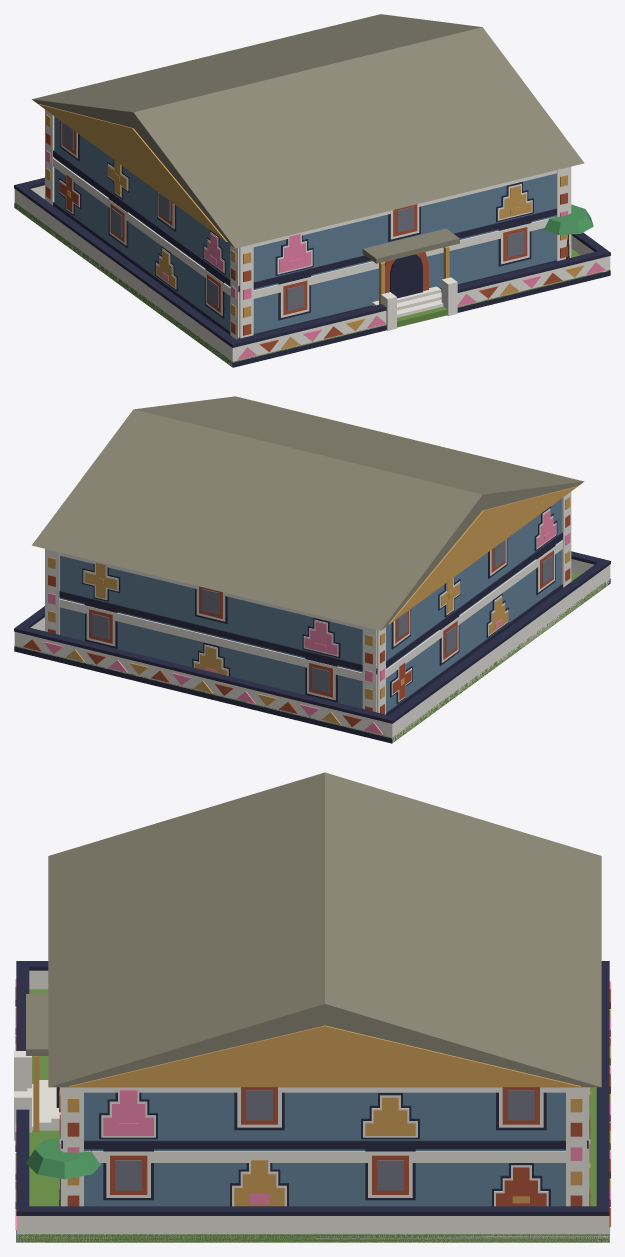
File: house-2x2-2f-ndebele-a.glb
The picture shows the model from 3 angles, top to bottom: view 1: azimuth 30°, elevation 25°; view 2: azimuth 150°, elevation 25°; view 3: azimuth 270°, elevation 25°; orthographic projection. The views are drawn at different scales.
Visible parts, largest first — view 1: house-2x2-2f-ndebele-a; view 2: house-2x2-2f-ndebele-a; view 3: house-2x2-2f-ndebele-a.
Part boxes in pixels (x1,y1,x2,y2): house-2x2-2f-ndebele-a: (14,14,610,367); house-2x2-2f-ndebele-a: (14,396,610,743); house-2x2-2f-ndebele-a: (14,772,610,1242).
Size of the model in its own units: 1.99 by 0.85 by 2.01.
Materials: 1 (1 with a texture image).
